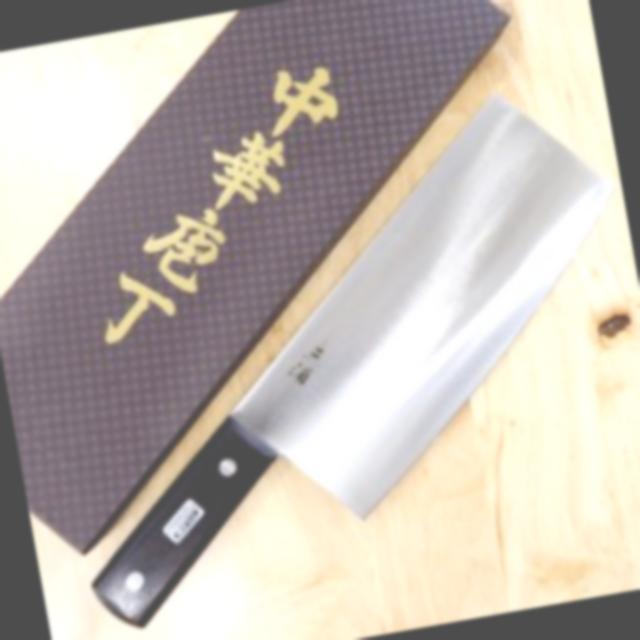cleaver: (18, 75, 640, 640)
